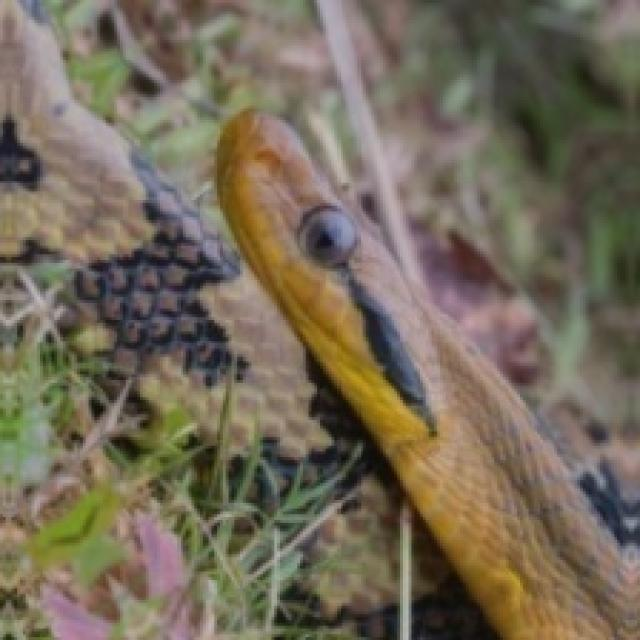dog-toothed cat snake: (0, 0, 403, 637), (217, 111, 637, 637)
